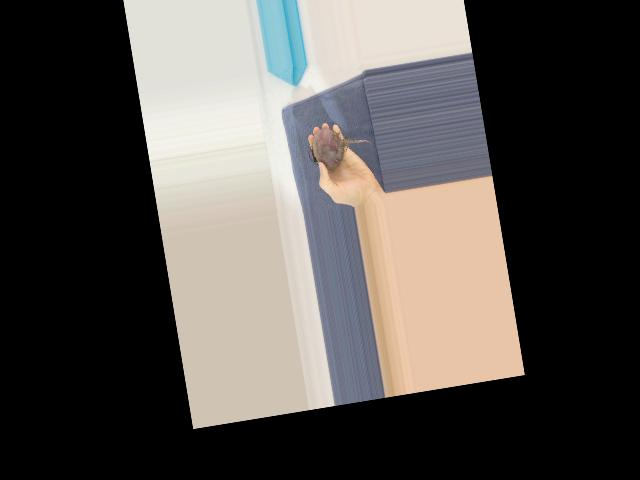beet: (305, 121, 375, 171)
